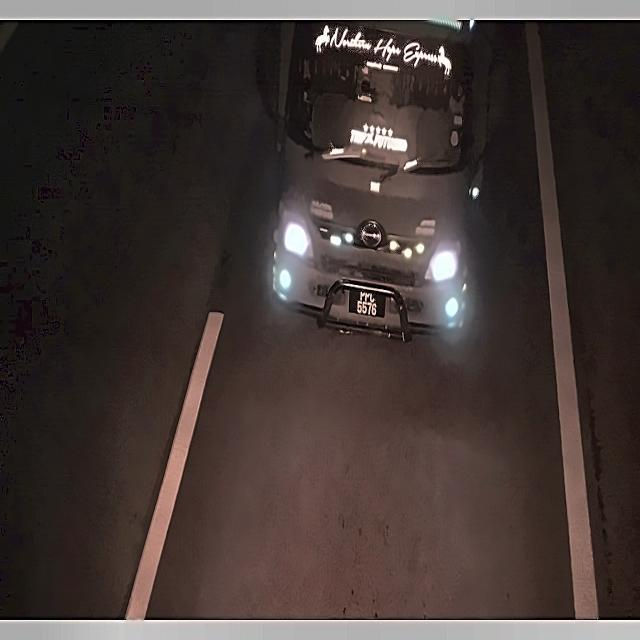car: (346, 286, 387, 326)
